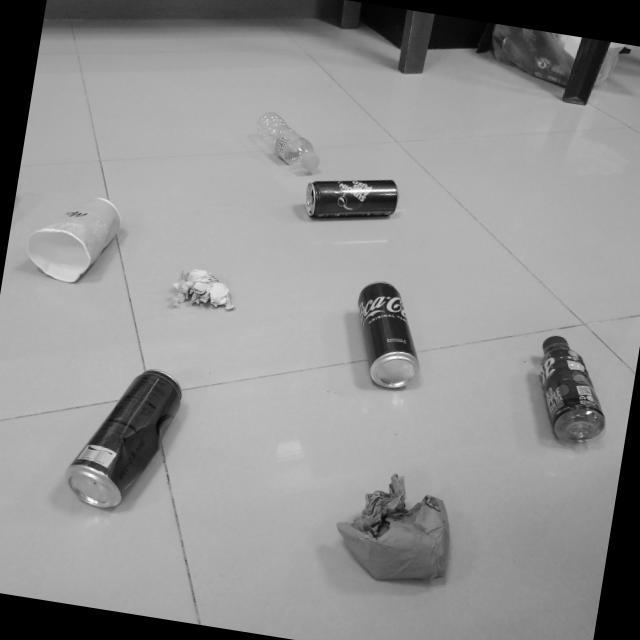recyclable waste: (56, 352, 194, 526), (322, 457, 468, 596), (524, 328, 624, 456), (18, 183, 130, 294), (340, 273, 438, 399), (296, 163, 407, 237), (245, 105, 331, 181), (162, 260, 242, 322)
